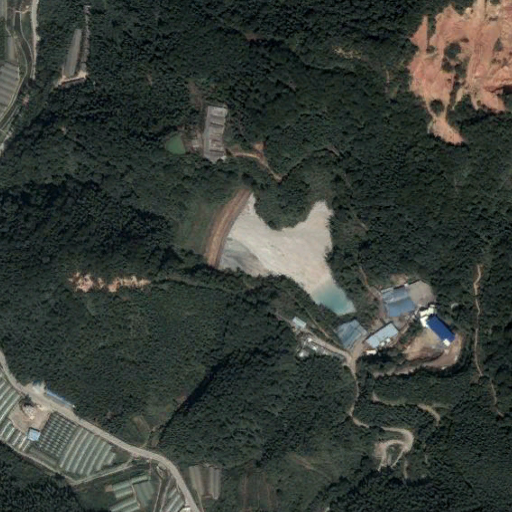tp: (171, 183, 355, 316)
